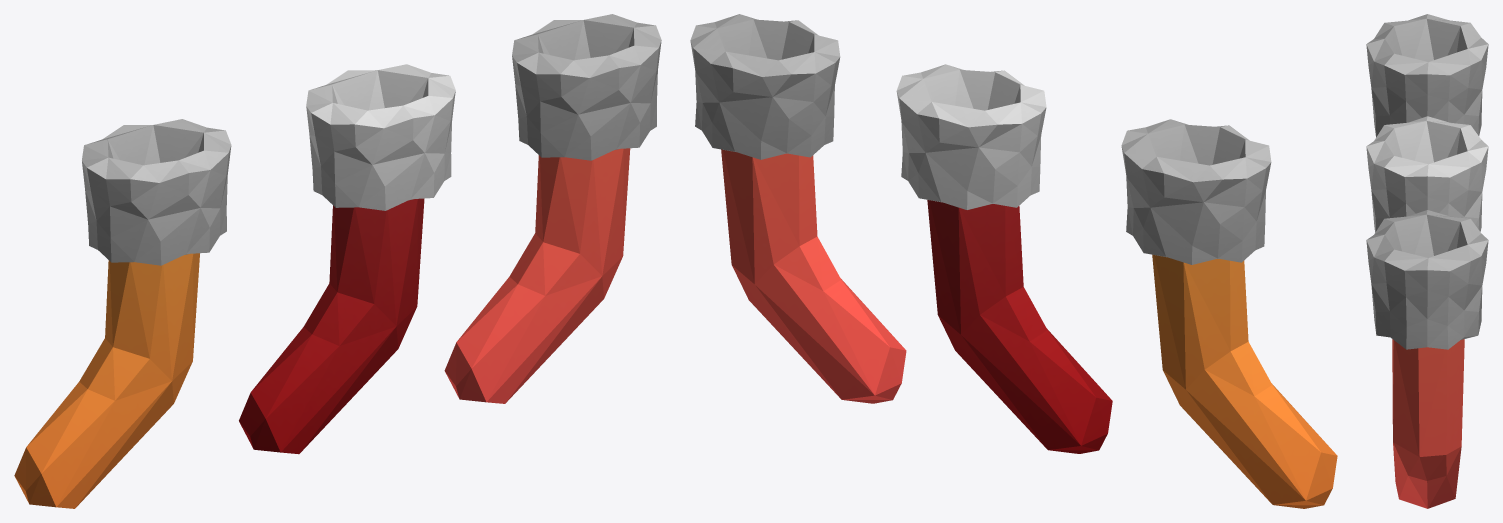
The model's file is Socks.glb.
3 renders of one model, left to right at view 1: azimuth 30°, elevation 25°; view 2: azimuth 150°, elevation 25°; view 3: azimuth 270°, elevation 25°, orthographic. The views are drawn at different scales.
Parts seen in each view (by area): view 1: Socks, Socks.001, Socks.002; view 2: Socks.002, Socks, Socks.001; view 3: Socks.001, Socks.002, Socks.
Part boxes in pixels (x1=…): Socks: x1=239, y1=64, x2=455, y2=454; Socks.001: x1=444, y1=14, x2=661, y2=403; Socks.002: x1=14, y1=119, x2=231, y2=508; Socks.002: x1=1121, y1=119, x2=1337, y2=508; Socks: x1=896, y1=64, x2=1112, y2=453; Socks.001: x1=690, y1=14, x2=906, y2=403; Socks.001: x1=1366, y1=210, x2=1488, y2=508; Socks.002: x1=1366, y1=14, x2=1488, y2=137; Socks: x1=1366, y1=116, x2=1488, y2=232.
Bounding box in the file's own units: 4 × 2.03 × 0.7165.
Materials: 1 (1 with a texture image).
